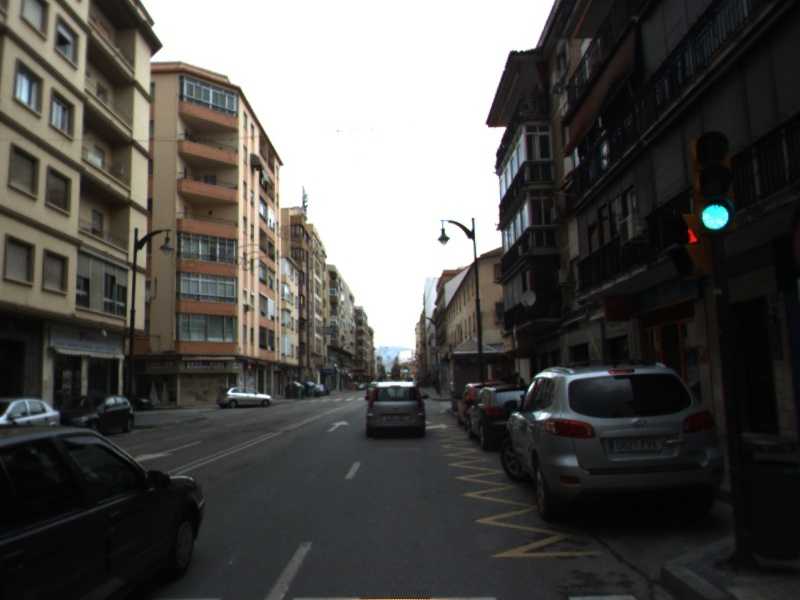STRAIGHT: (325, 419, 351, 433)
